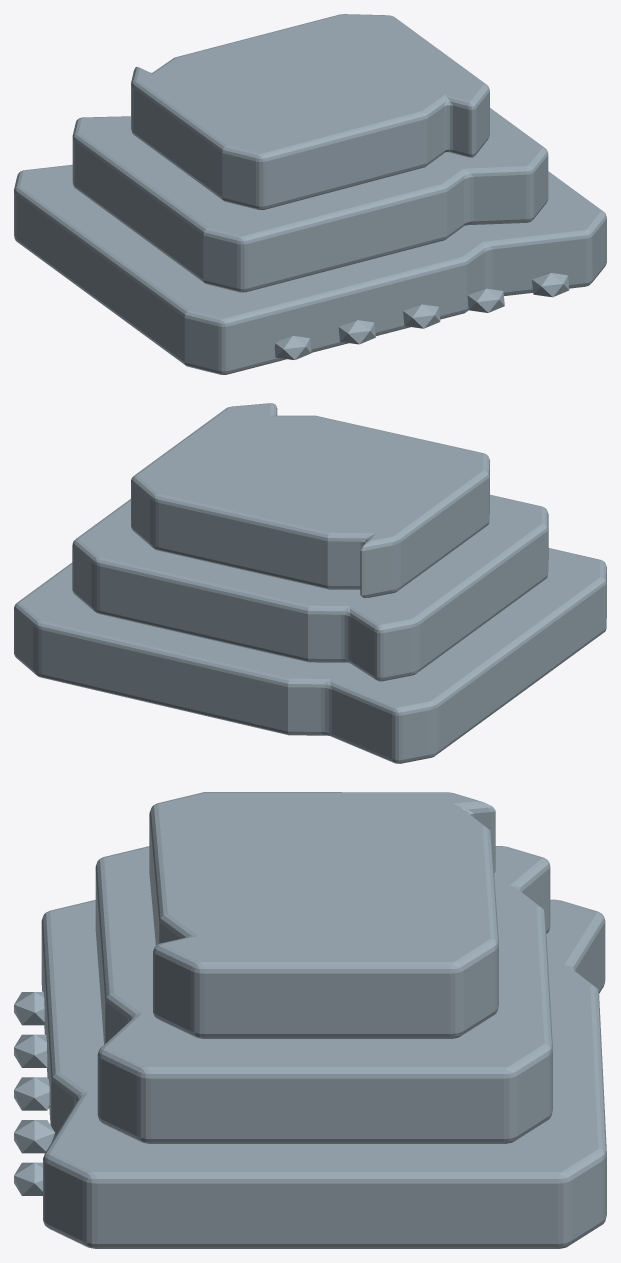
Rendered from broken_steps.glb.
3 renders of one model, top to bottom at view 1: azimuth 30°, elevation 25°; view 2: azimuth 150°, elevation 25°; view 3: azimuth 270°, elevation 25°, orthographic. The views are drawn at different scales.
Visible parts, largest first — view 1: Broken_Step_2, Broken_Step_0, Broken_Step_1, Dislodged_Stone_Chip.001, Dislodged_Stone_Chip, Dislodged_Stone_Chip.002, Dislodged_Stone_Chip.003, Dislodged_Stone_Chip.004; view 2: Broken_Step_0, Broken_Step_2, Broken_Step_1; view 3: Broken_Step_0, Broken_Step_2, Broken_Step_1, Dislodged_Stone_Chip.001, Dislodged_Stone_Chip.002, Dislodged_Stone_Chip.003, Dislodged_Stone_Chip.004, Dislodged_Stone_Chip.
Boxes of the visible parts, box(x1,y1,x2,y2) form: Broken_Step_2: box(131, 14, 489, 209); Broken_Step_0: box(14, 164, 606, 374); Broken_Step_1: box(72, 108, 548, 292); Dislodged_Stone_Chip.001: box(467, 288, 504, 312); Dislodged_Stone_Chip: box(532, 272, 569, 297); Dislodged_Stone_Chip.002: box(403, 304, 440, 328); Dislodged_Stone_Chip.003: box(338, 320, 375, 344); Dislodged_Stone_Chip.004: box(274, 335, 311, 359); Broken_Step_0: box(14, 548, 606, 763); Broken_Step_2: box(131, 403, 489, 598); Broken_Step_1: box(72, 494, 548, 681); Broken_Step_0: box(41, 899, 606, 1248); Broken_Step_2: box(149, 792, 498, 1038); Broken_Step_1: box(95, 846, 552, 1143); Dislodged_Stone_Chip.001: box(14, 1120, 55, 1153); Dislodged_Stone_Chip.002: box(14, 1077, 49, 1110); Dislodged_Stone_Chip.003: box(14, 1034, 47, 1067); Dislodged_Stone_Chip.004: box(14, 992, 44, 1025); Dislodged_Stone_Chip: box(14, 1162, 42, 1195).
Size of the model in its own units: 0.98 by 0.385 by 0.8804.
